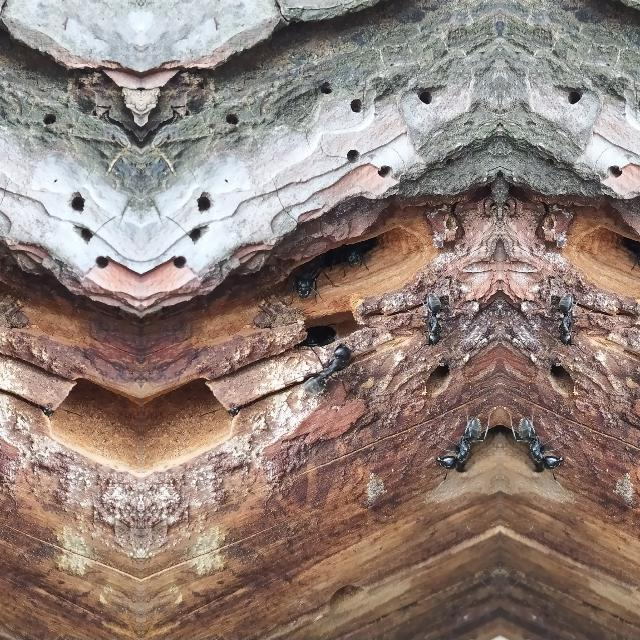Camponotus: (302, 332, 364, 400), (427, 414, 491, 476), (507, 414, 571, 476), (412, 282, 450, 356), (548, 282, 586, 356), (287, 262, 339, 304), (333, 238, 379, 274), (618, 236, 640, 274)
